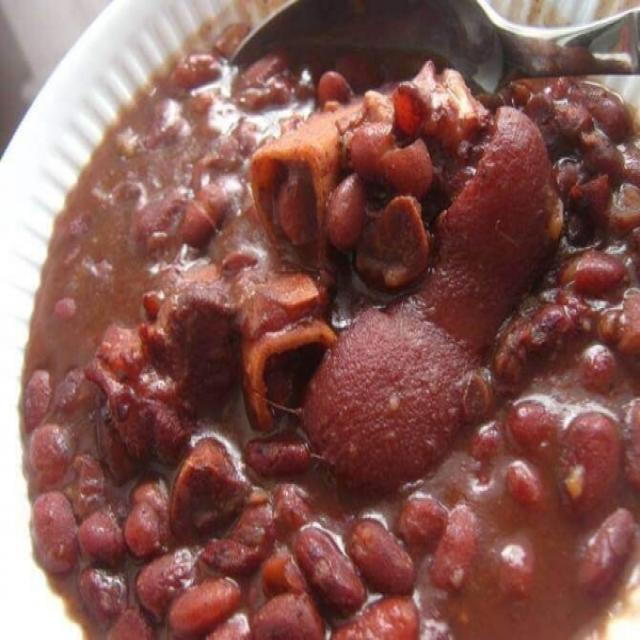frijoles: (9, 9, 628, 630)
